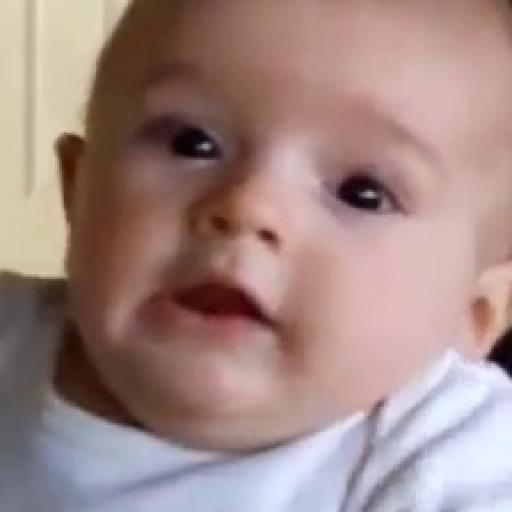Autism: (89, 0, 512, 427)
